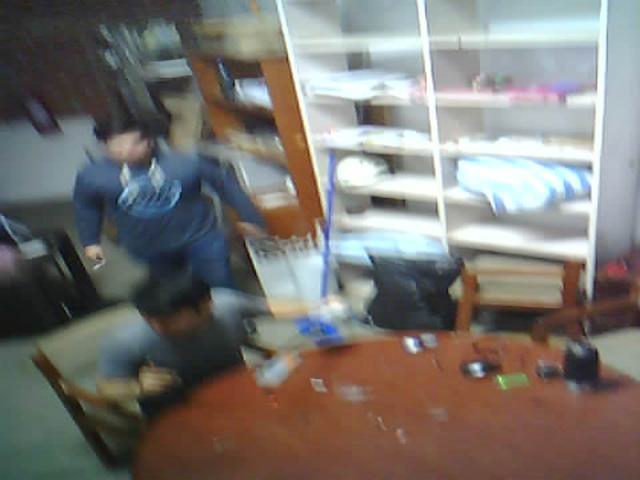person: (37, 79, 290, 295), (73, 257, 291, 426)
